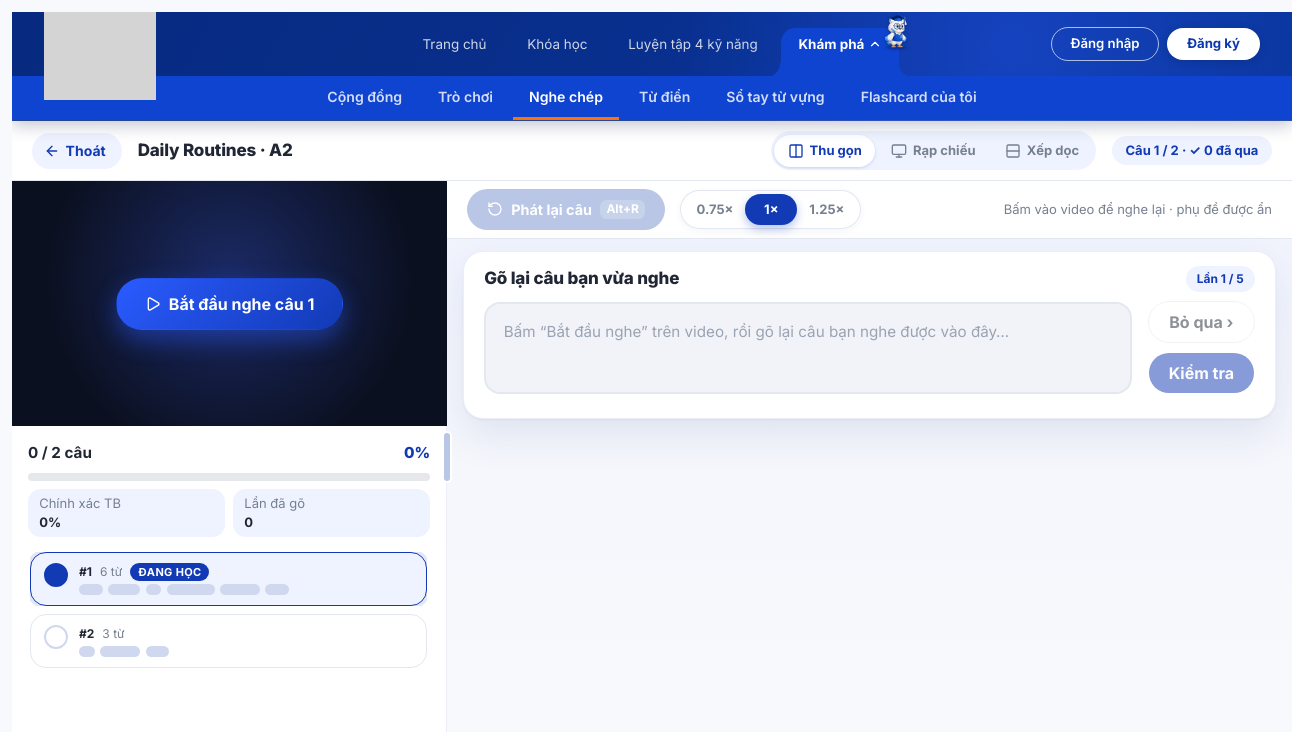
Test: VideoDictationPlayerPage › opens and closes the Vietnamese meaning of the sentence, and offers none for a sentence without one
Click the button "Bắt đầu nghe câu 1".
click(230, 304)  # box x1=116 y1=278 x2=343 y2=330
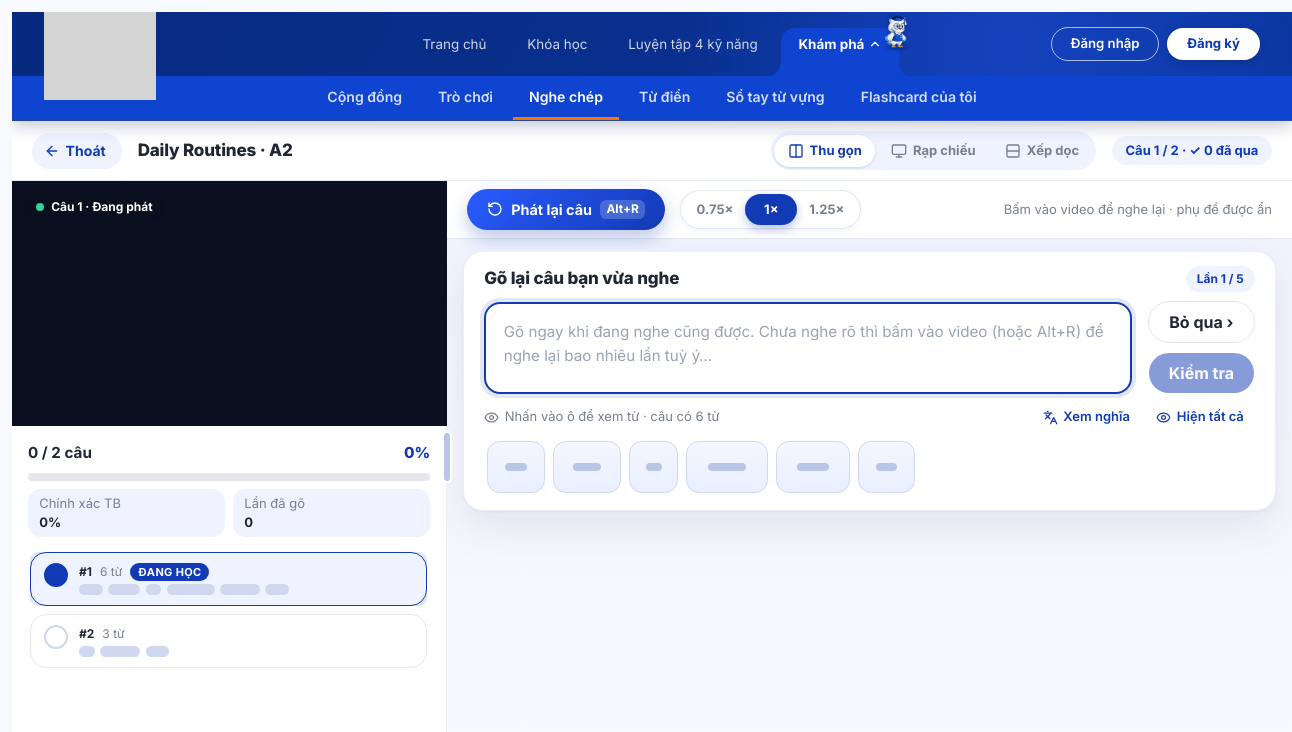
Check: the text "Cô ấy đi học mỗi ngày" is not shown
Click the button "Xem nghĩa".
click(1086, 417)  # box x1=1032 y1=403 x2=1141 y2=431
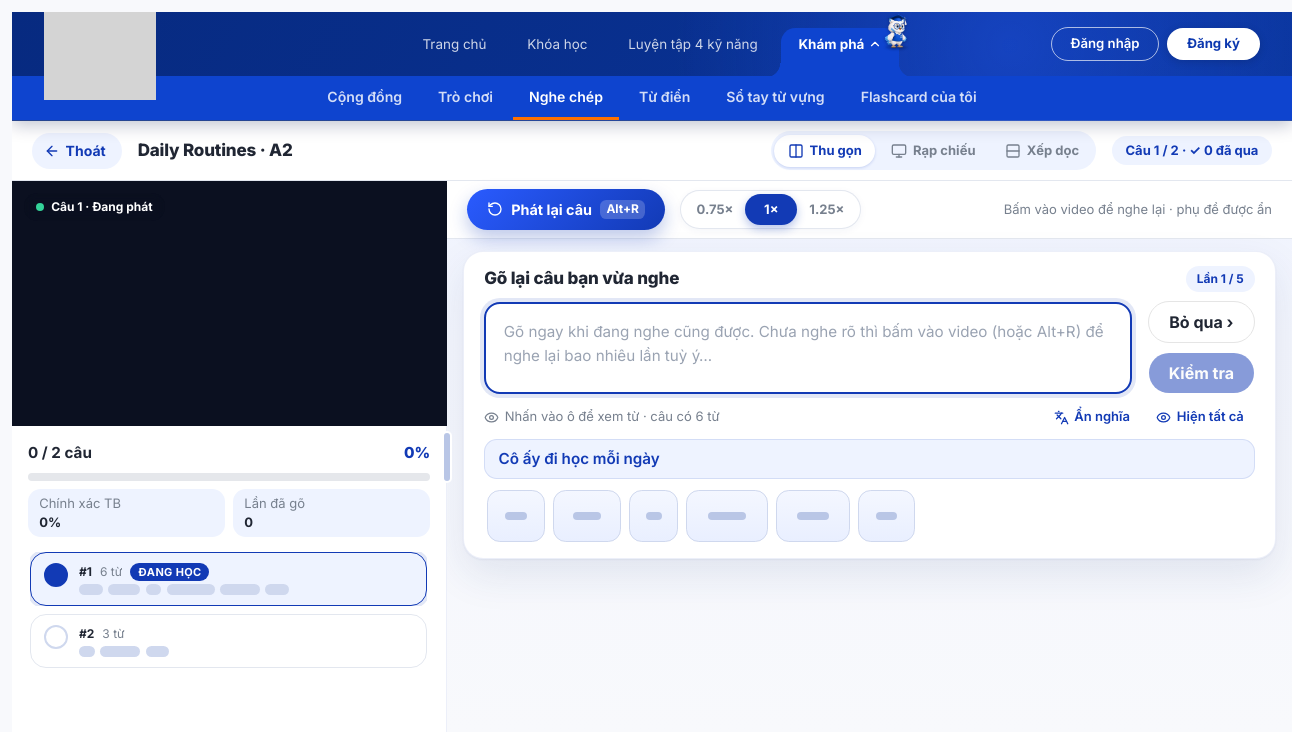
Check: the text "Cô ấy đi học mỗi ngày" is shown, box x1=484 y1=439 x2=1255 y2=479
Click the button "Ẩn nghĩa".
click(1092, 417)  # box x1=1042 y1=403 x2=1141 y2=431
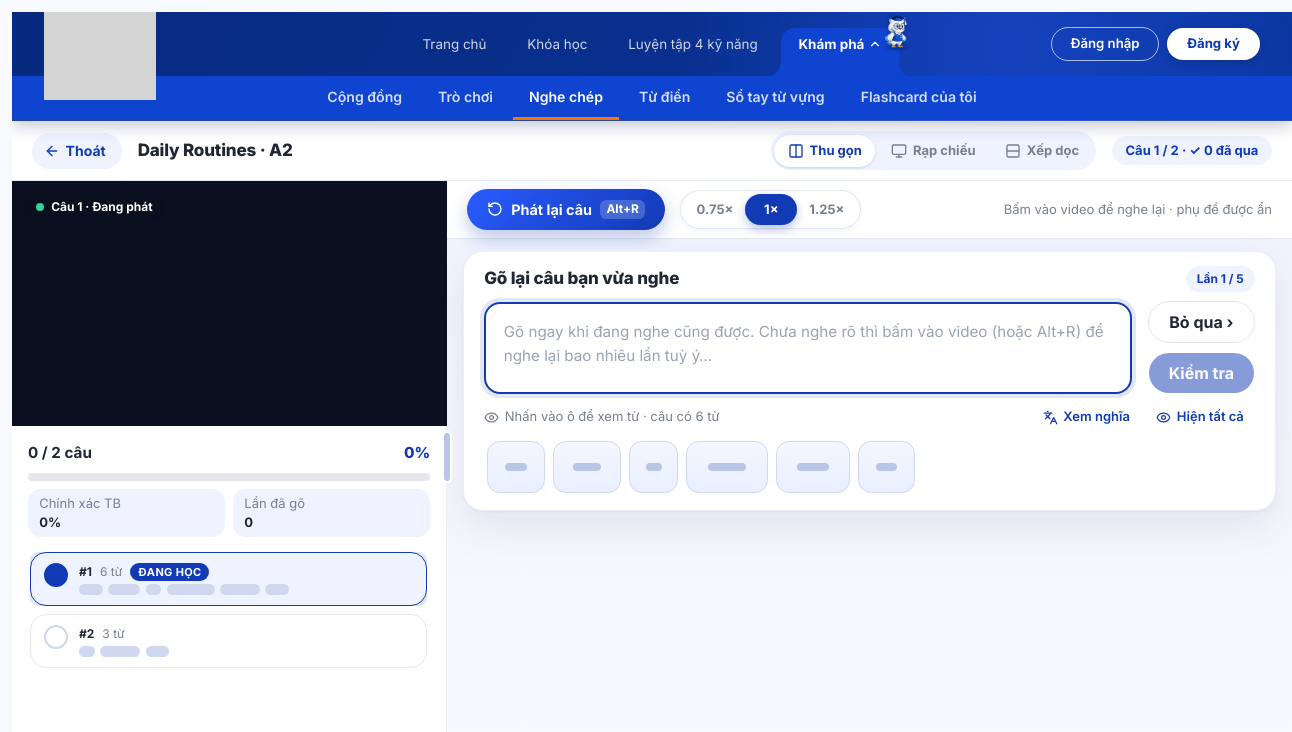
Check: the text "Cô ấy đi học mỗi ngày" is gone
Click the button "Xem nghĩa".
click(1086, 417)  # box x1=1032 y1=403 x2=1141 y2=431
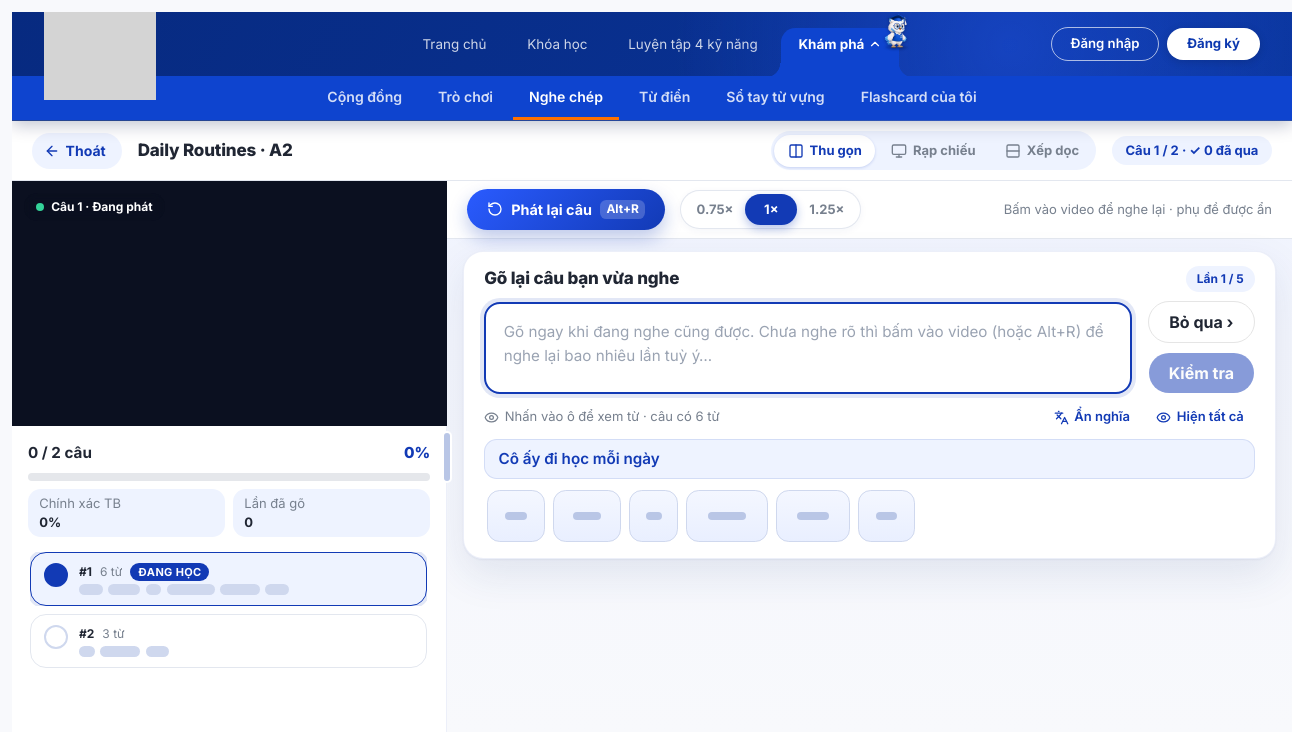
Click the button "Bỏ qua ›".
click(1201, 322)  # box x1=1148 y1=301 x2=1255 y2=343
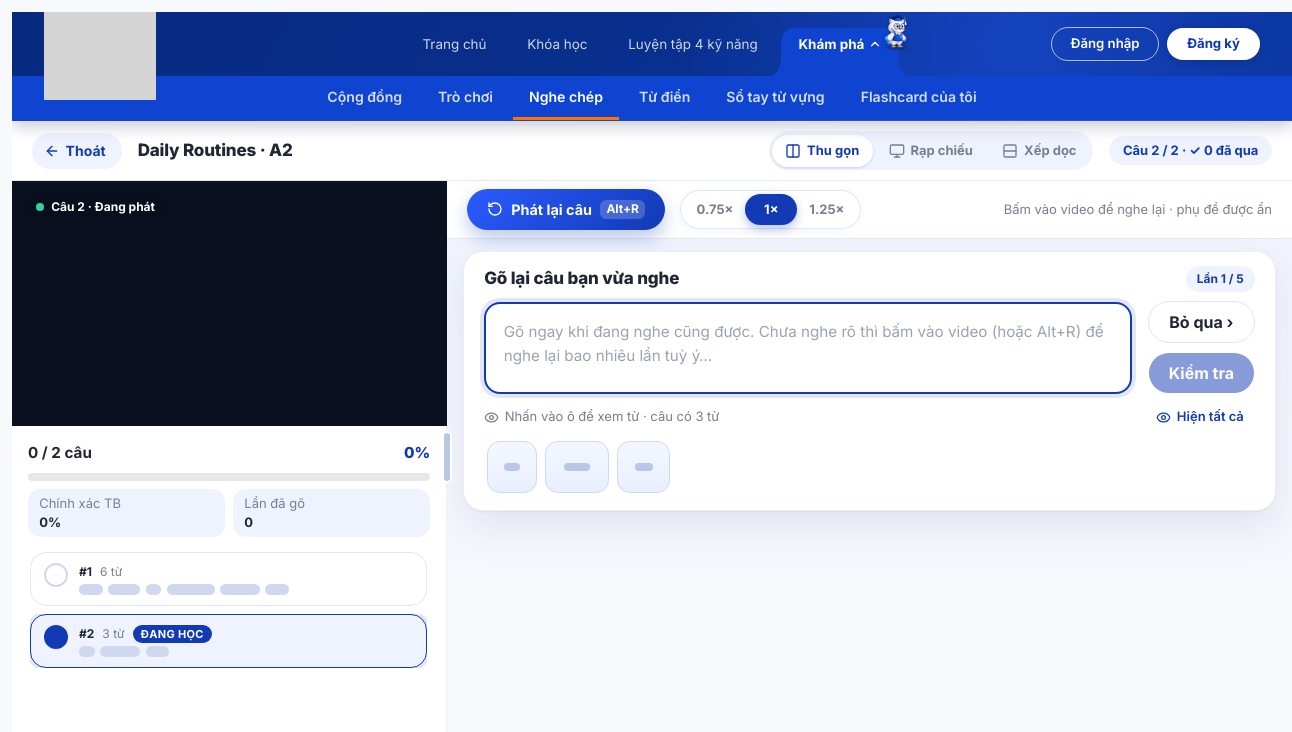
Check: the button "nghĩa" is gone
Check: the text "Cô ấy đi học mỗi ngày" is gone
